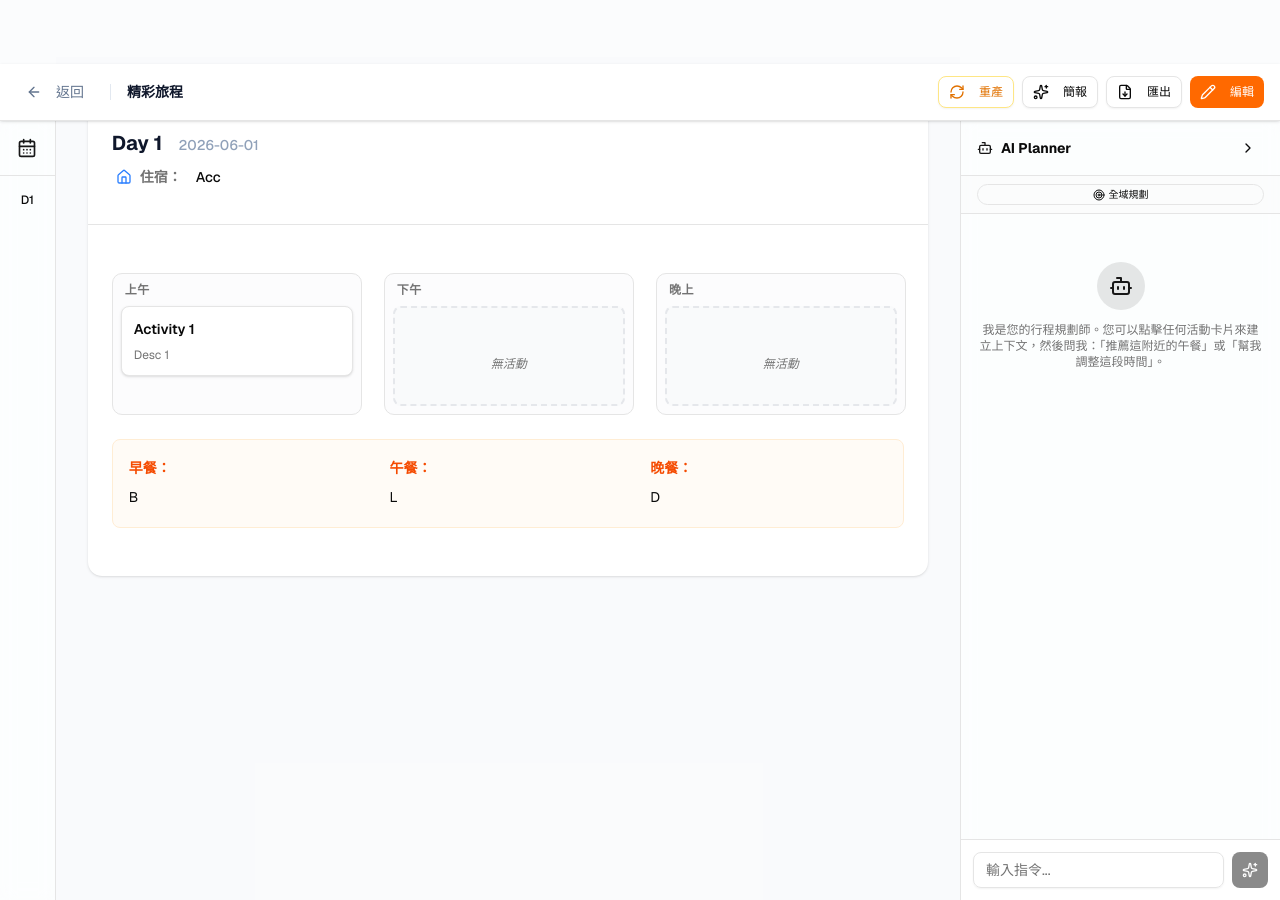
Test: ItineraryEditor switches to edit mode
Click the button "編輯".
click(1227, 92)  # box [1190, 76, 1264, 108]
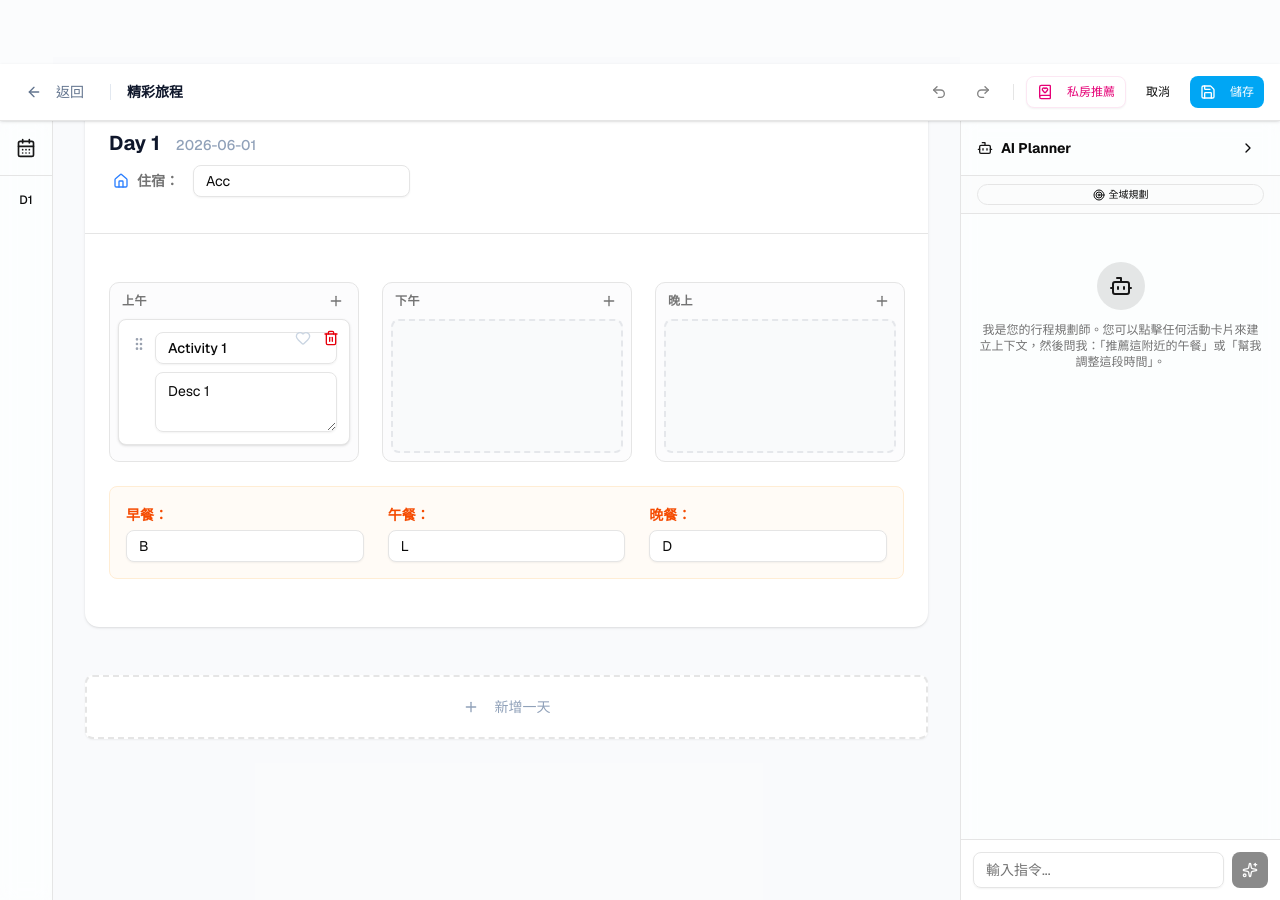
Result: the button "儲存" is shown at [1190, 76, 1264, 108]
